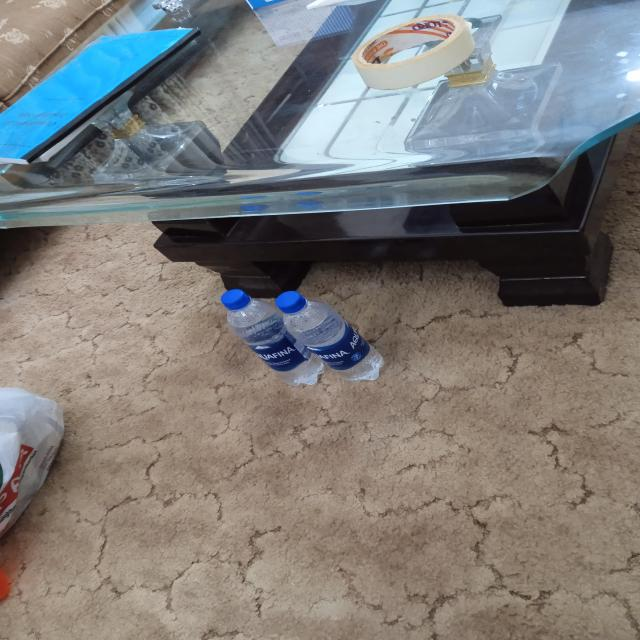Plastic: (301, 292, 394, 383), (218, 288, 286, 380)
